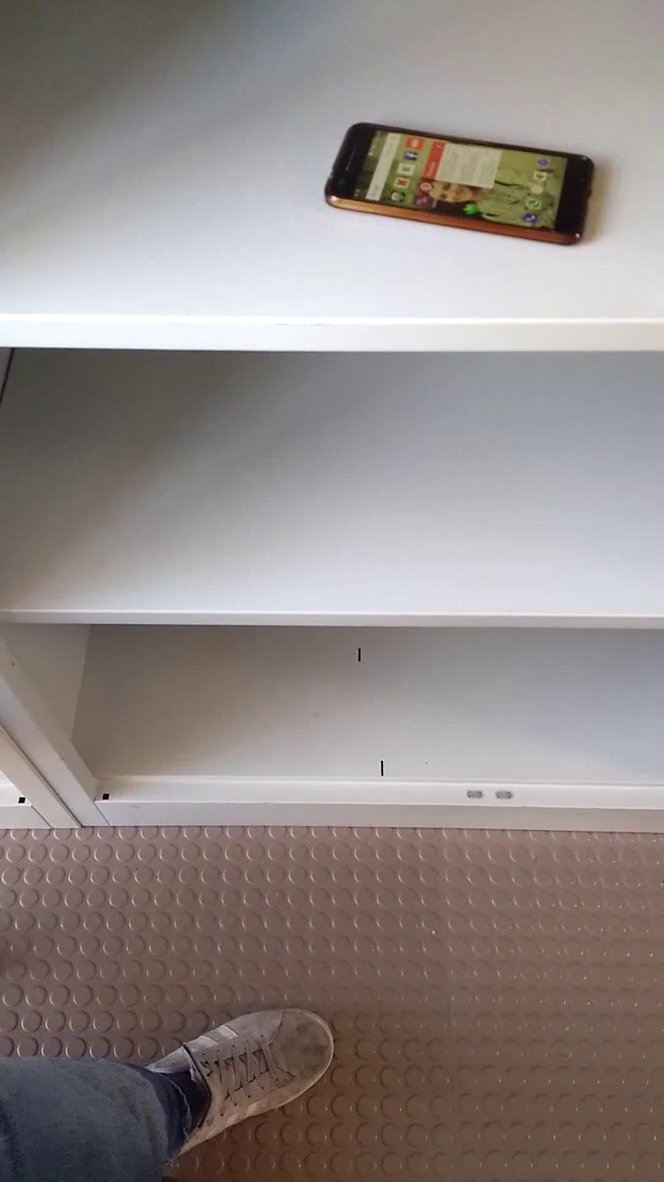phone: (313, 109, 613, 255)
